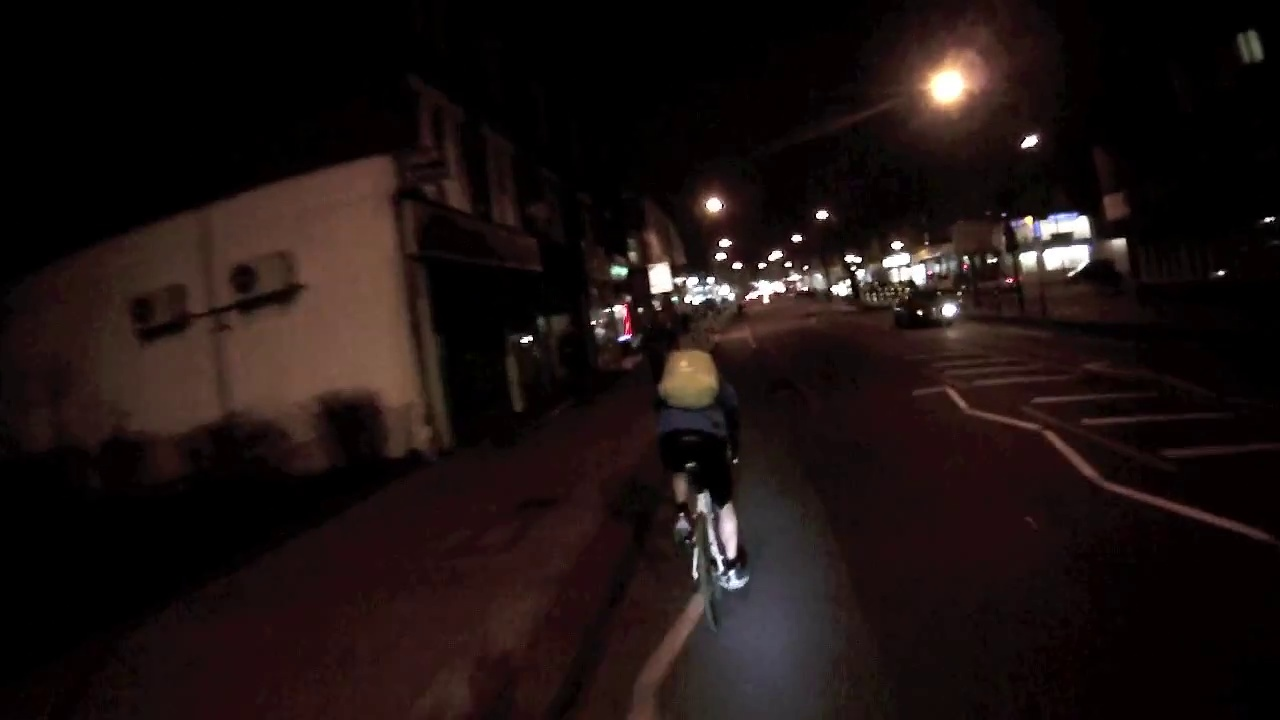cyclist_back: (655, 314, 760, 629)
